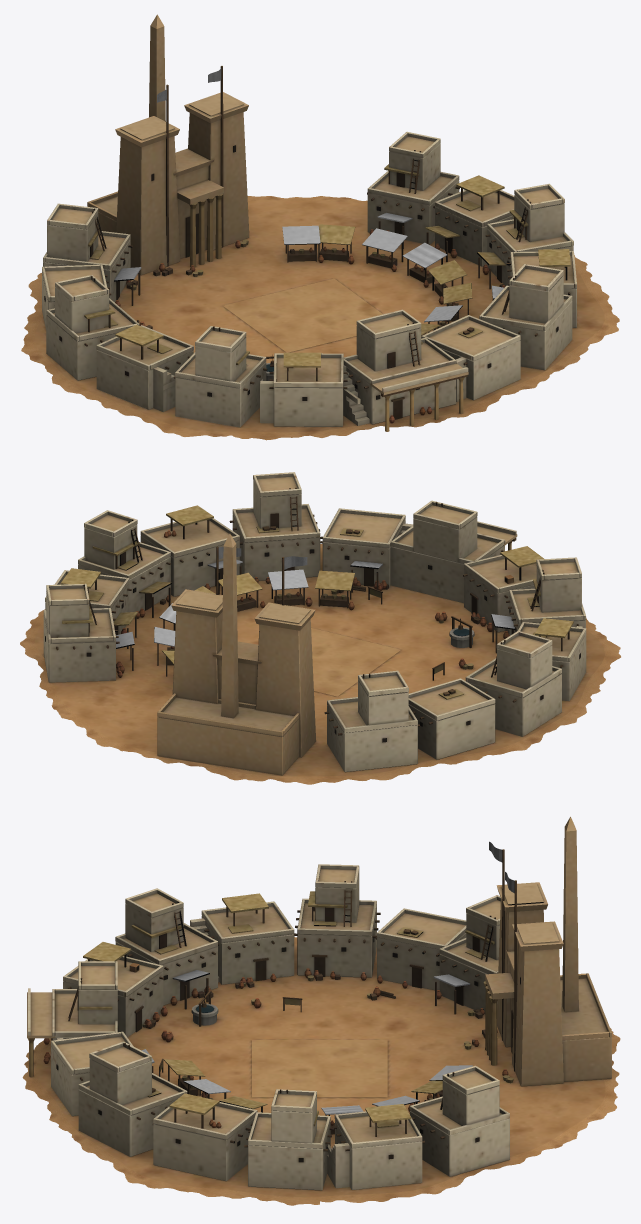
The model's file is bronze-town-medium-b.glb.
3 renders of one model, top to bottom at view 1: azimuth 30°, elevation 25°; view 2: azimuth 150°, elevation 25°; view 3: azimuth 270°, elevation 25°, orthographic. The views are drawn at different scales.
Visible parts, largest first — view 1: LOD0; view 2: LOD0; view 3: LOD0.
Part boxes in pixels (x1=…): LOD0: x1=21, y1=14, x2=619, y2=440; LOD0: x1=20, y1=472, x2=620, y2=784; LOD0: x1=22, y1=816, x2=620, y2=1205.
Size of what is drawn, in the model's own units: 5.92 by 2.4 by 5.6.
Materials: 3 (3 with a texture image).
